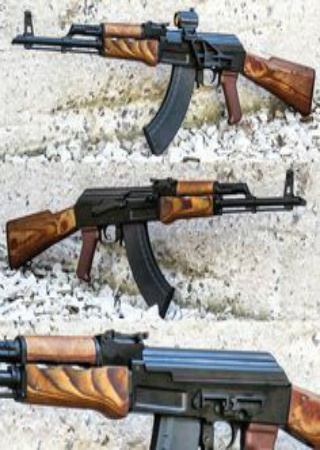rifle: (9, 1, 320, 155), (3, 168, 313, 318), (2, 328, 319, 450)
